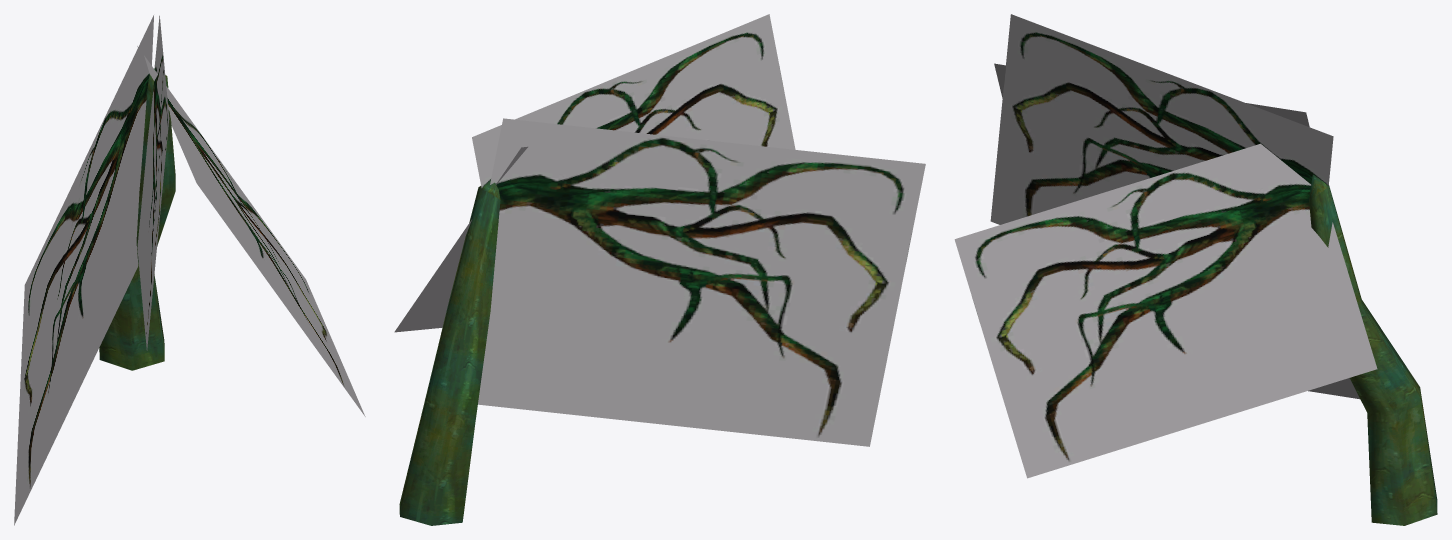
Rendered from INST_MIRK_TREE_SCARYB.fbx.
3 renders of one model, left to right at view 1: azimuth 30°, elevation 25°; view 2: azimuth 150°, elevation 25°; view 3: azimuth 270°, elevation 25°, orthographic. The views are drawn at different scales.
Visible parts, largest first — view 1: INST_MIRK_TREE_SCARYB; view 2: INST_MIRK_TREE_SCARYB; view 3: INST_MIRK_TREE_SCARYB.
Part boxes in pixels (<box>): INST_MIRK_TREE_SCARYB: <box>14,15,365,525</box>; INST_MIRK_TREE_SCARYB: <box>394,14,925,525</box>; INST_MIRK_TREE_SCARYB: <box>954,14,1437,525</box>.
Bounding box in the file's own units: 129869 × 143454 × 147941.
Materials: 2 (2 with a texture image).
